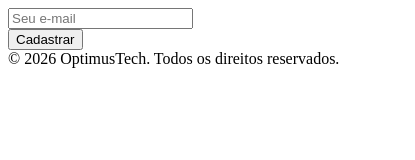
Form › should register email successfully
Later steps or results of the test are not shown.
Type "teste@gmail.com" into the field labelled "Seu e-mail".
click(100, 18); type("teste@gmail.com")  # box [8,8,193,29]
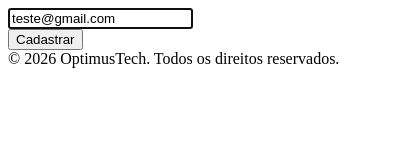
Click the button "Cadastrar".
click(45, 40)  # box [8,29,82,50]
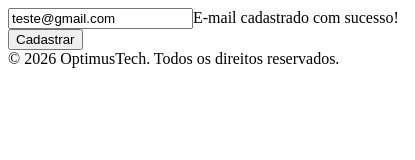
Check: the text "E-mail cadastrado com sucesso!" is shown, box [193,9,399,26]
